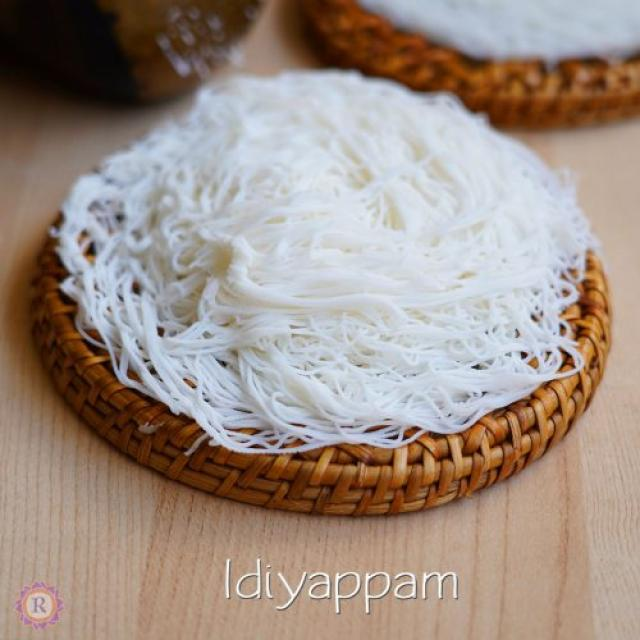IDIYAPPAM: (57, 68, 606, 457)
